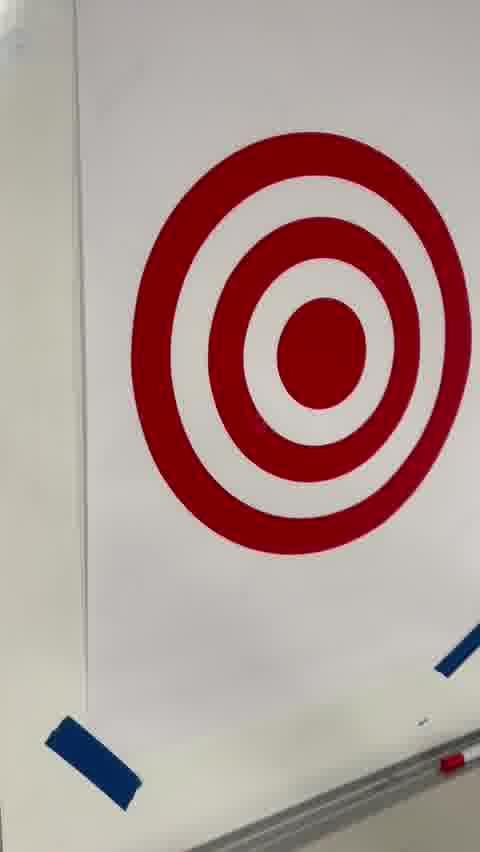target_red: (134, 134, 473, 558)
